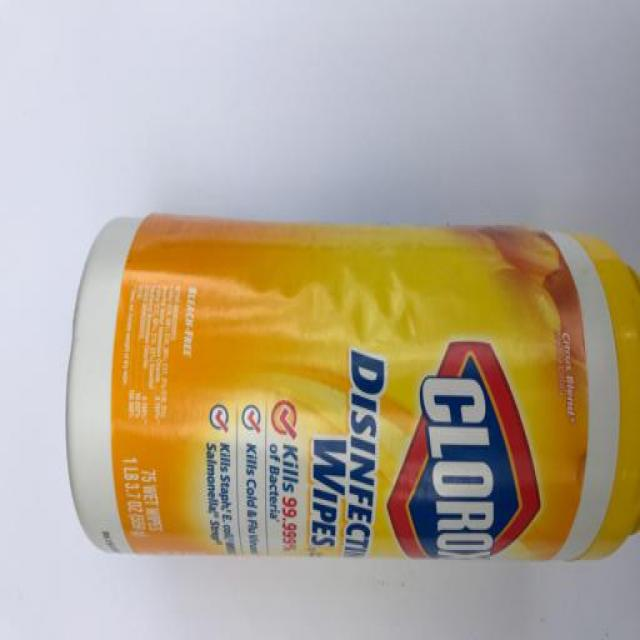plastic_bottle: (37, 198, 640, 624)
